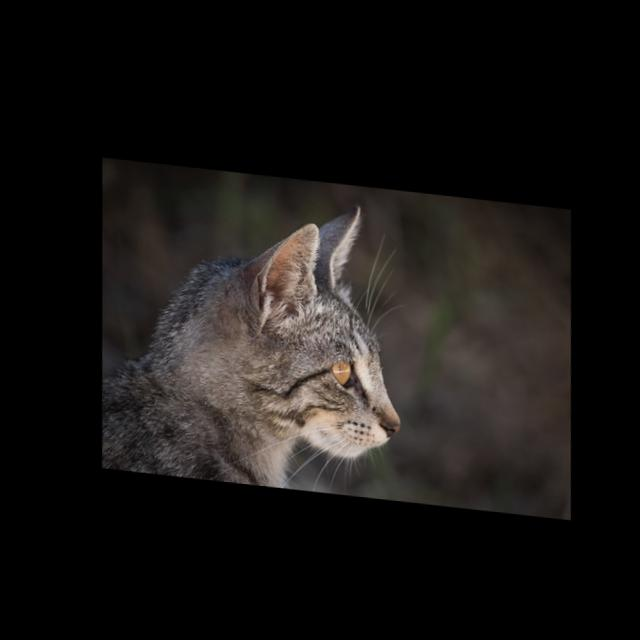animals: (85, 175, 410, 497)
